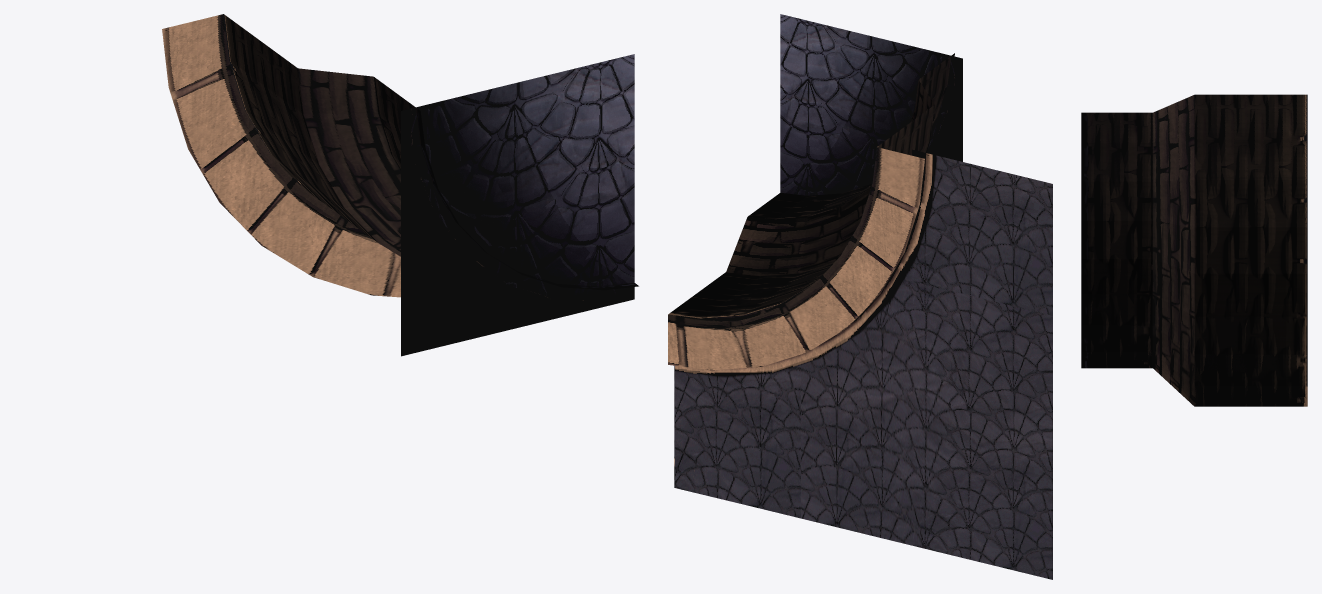
The model's file is ex_InCorner1.obj.
3 renders of one model, left to right at view 1: azimuth 30°, elevation 25°; view 2: azimuth 150°, elevation 25°; view 3: azimuth 270°, elevation 25°, orthographic. The views are drawn at different scales.
Parts seen in each view (by area): view 1: ex_InCorner1_Cube; view 2: object 2, ex_InCorner1_Cube; view 3: ex_InCorner1_Cube.
Part boxes in pixels (box(x1,y1,x2,y2)): ex_InCorner1_Cube: box(162, 14, 638, 356); object 2: box(674, 149, 1052, 579); ex_InCorner1_Cube: box(668, 14, 962, 370); ex_InCorner1_Cube: box(1081, 94, 1307, 406).
Bounding box in the file's own units: 256 × 256 × 136.
Materials: 2 (2 with a texture image).
